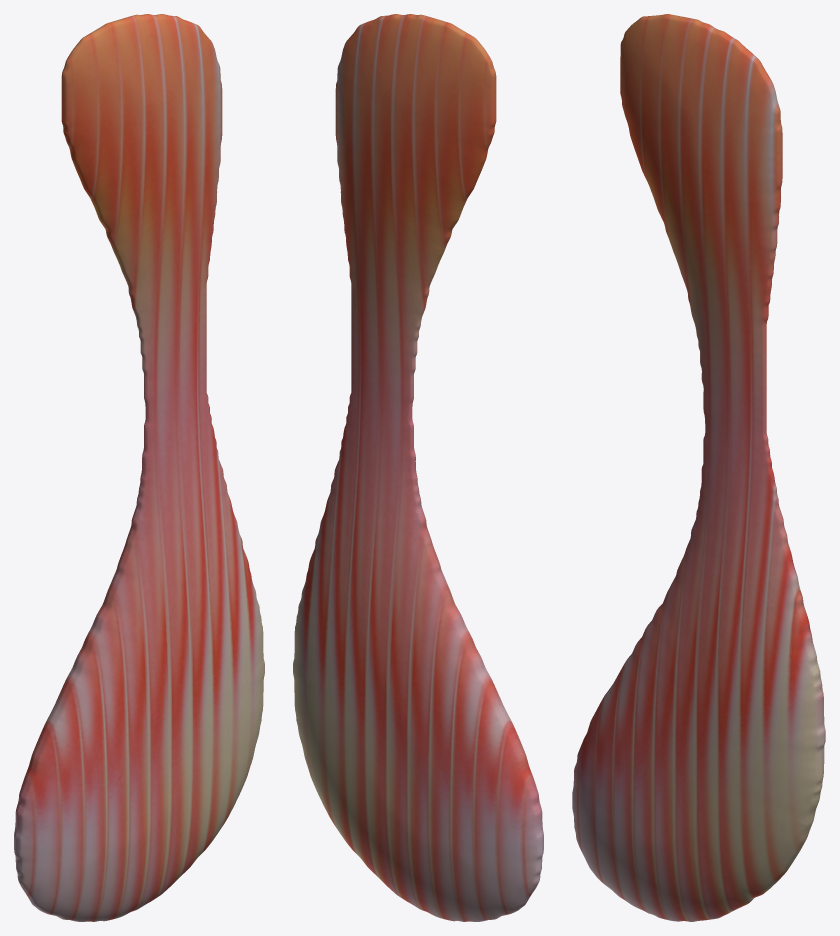
File: letterI.glb
3 views of the same model, side by side, from view 1: azimuth 30°, elevation 25°; view 2: azimuth 150°, elevation 25°; view 3: azimuth 330°, elevation 25° (orthographic).
Parts seen in each view (by area): view 1: Geometry; view 2: Geometry; view 3: Geometry.
Part boxes in pixels (x1=…): Geometry: x1=14, y1=14, x2=264, y2=921; Geometry: x1=293, y1=14, x2=543, y2=921; Geometry: x1=572, y1=14, x2=825, y2=921.
Size of the model in its own units: 0.2887 by 1 by 0.0693.
1 material, 1 textured.
